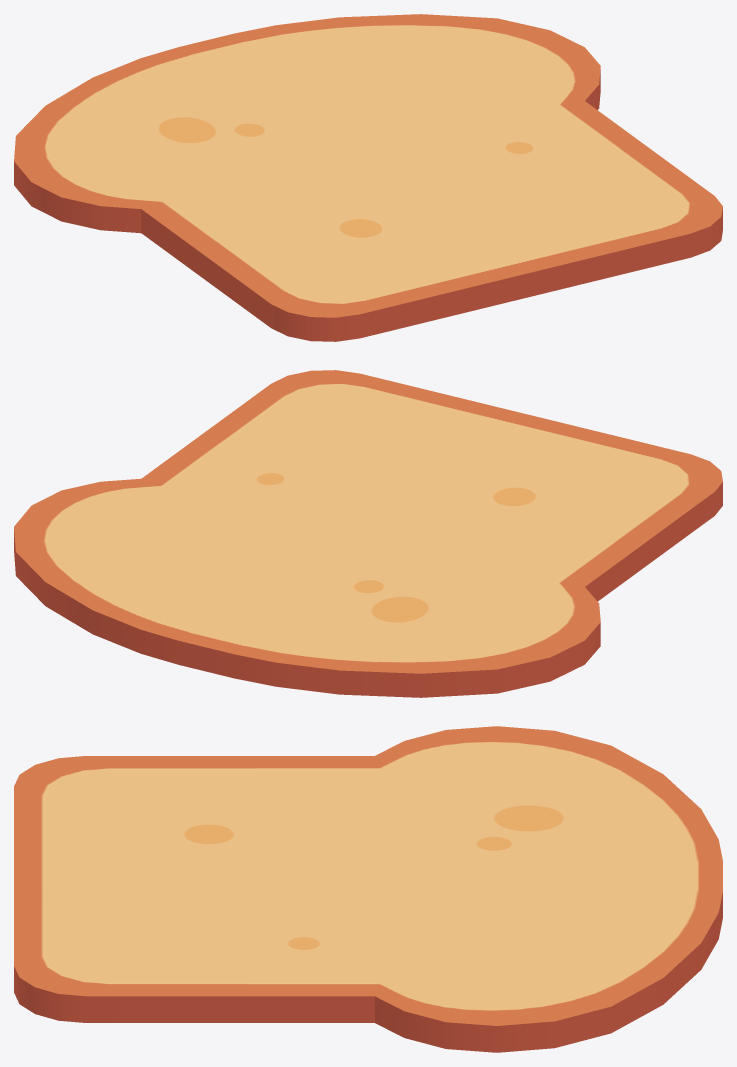
File: bread.glb
The picture shows the model from 3 angles, top to bottom: view 1: azimuth 30°, elevation 25°; view 2: azimuth 150°, elevation 25°; view 3: azimuth 270°, elevation 25°; orthographic projection. The views are drawn at different scales.
Parts seen in each view (by area): view 1: Bread_Slice; view 2: Bread_Slice; view 3: Bread_Slice.
Part boxes in pixels (x1,y1,x2,y2): Bread_Slice: (14, 14, 722, 341); Bread_Slice: (14, 370, 722, 697); Bread_Slice: (14, 726, 722, 1052).
Bounding box in the file's own units: 0.2402 × 0.01 × 0.24.
Materials: 1 (1 with a texture image).
